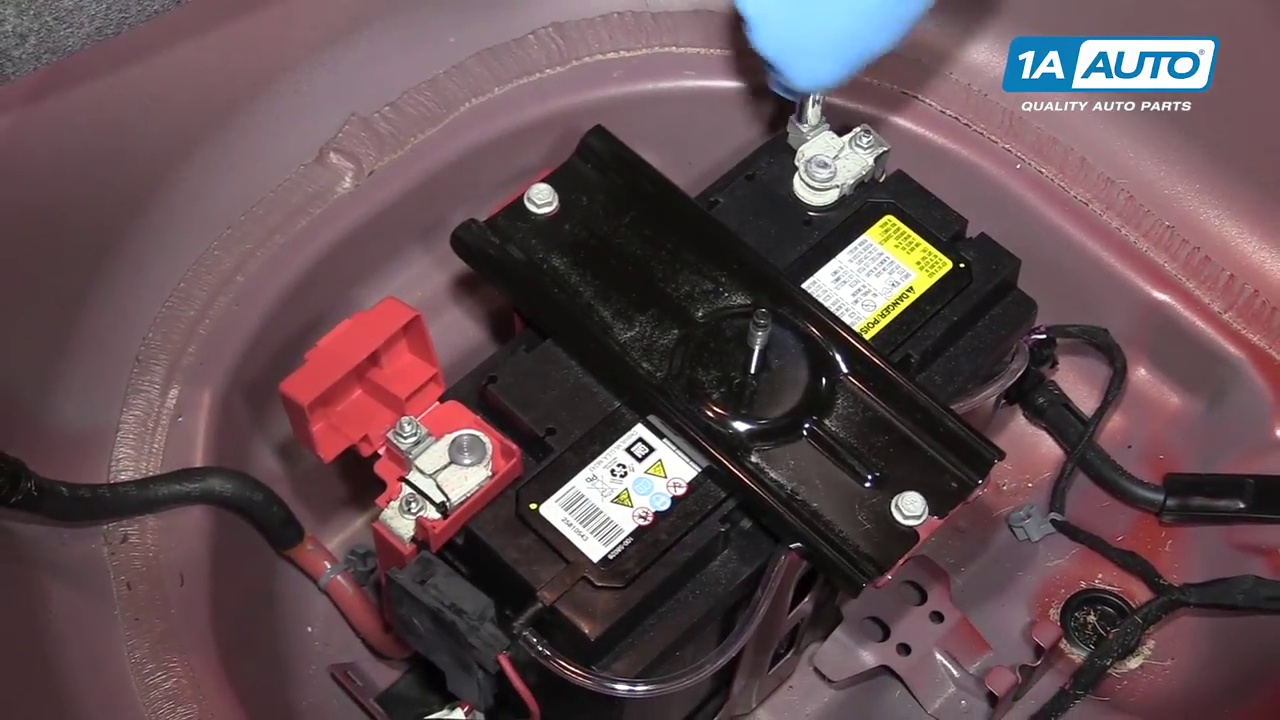battery: (367, 125, 1010, 644)
neg_connected: (765, 117, 911, 216)
neg_touched: (745, 7, 927, 208)
pos_connected: (279, 323, 527, 558)
